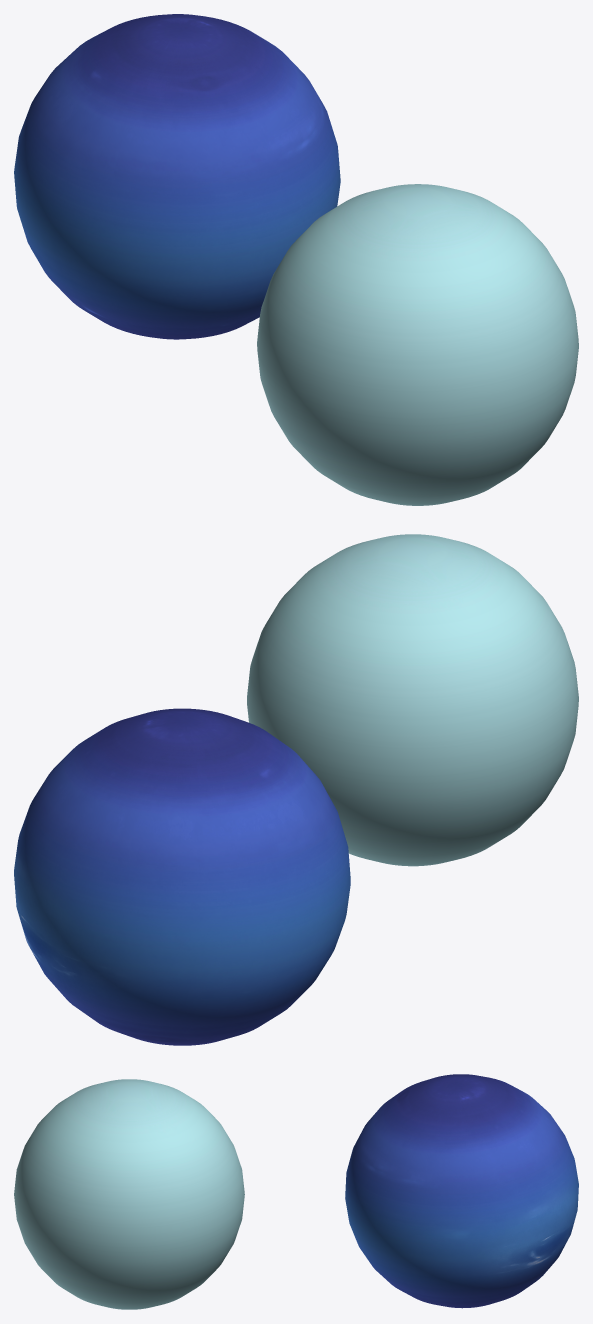
The model's file is ураннептун.glb.
3 renders of one model, top to bottom at view 1: azimuth 30°, elevation 25°; view 2: azimuth 150°, elevation 25°; view 3: azimuth 270°, elevation 25°, orthographic. The views are drawn at different scales.
Visible parts, largest first — view 1: Sphere, Sphere.001; view 2: Sphere.001, Sphere; view 3: Sphere.001, Sphere.
Boxes of the visible parts, box(x1,y1,x2,y2) form: Sphere: box(257, 184, 578, 505); Sphere.001: box(14, 14, 340, 339); Sphere.001: box(14, 708, 350, 1045); Sphere: box(247, 534, 578, 866); Sphere.001: box(345, 1074, 578, 1308); Sphere: box(14, 1079, 244, 1309).
Size of the model in its own units: 2.07 by 2.03 by 4.89.
2 materials, 2 textured.
